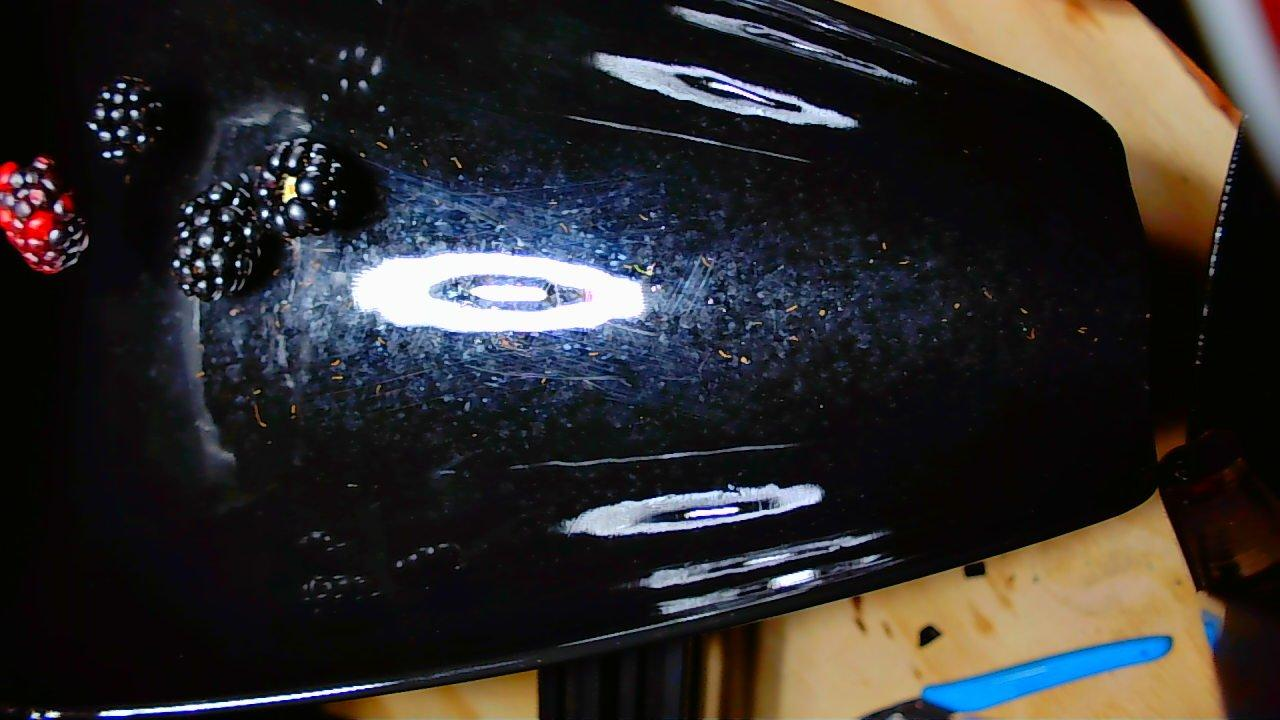berry: (170, 176, 260, 301), (0, 156, 88, 273), (254, 138, 345, 237), (85, 76, 163, 164)
